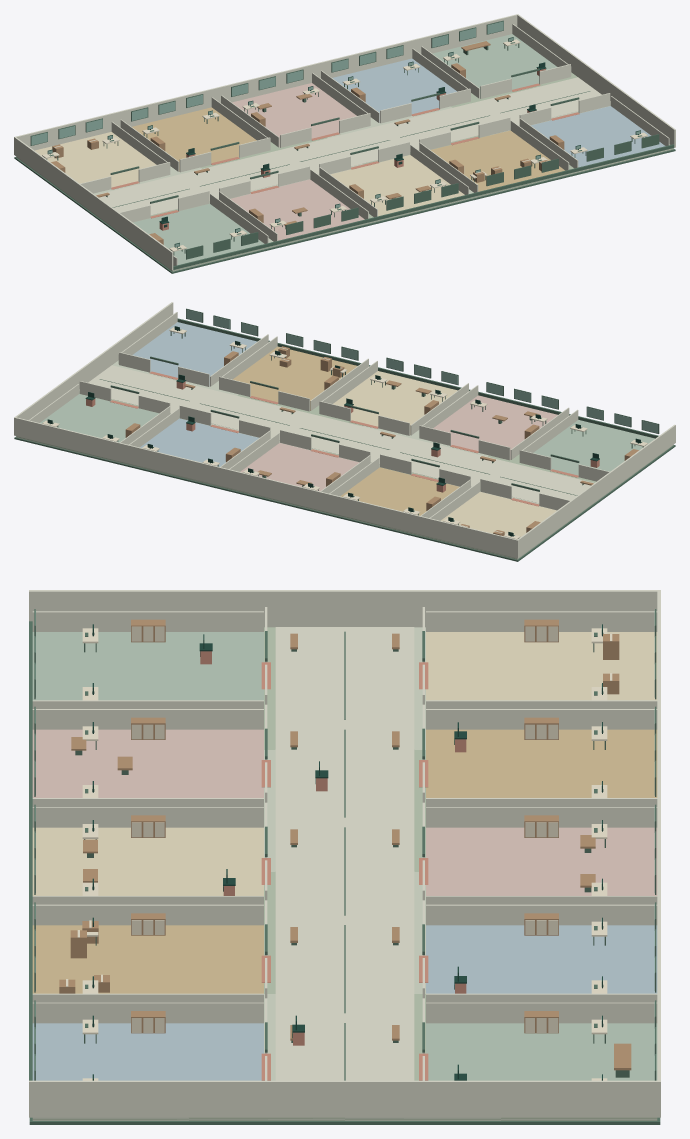
The model's file is campus.glb.
The picture shows the model from 3 angles, top to bottom: view 1: azimuth 30°, elevation 25°; view 2: azimuth 150°, elevation 25°; view 3: azimuth 270°, elevation 25°; orthographic projection. The views are drawn at different scales.
Visible parts, largest first — view 1: Boulevard tile (×5), Room divider (×18), Boundary back, Room front (×14), Boundary side (×2), AZOTEA / JARDÍN floor, ARCHIVO / EVIDENCIAS floor, SISTEMAS / TI floor, CREATIVIDAD floor, REUNIÓN ETERNA floor, RECEPCIÓN / SALIDA floor, CAFETERÍA floor (+6 smaller); view 2: Boulevard tile (×5), Boundary back, Room divider (×18), Room front (×14), Boundary side (×2), AZOTEA / JARDÍN floor, CREATIVIDAD floor, CAFETERÍA floor, RECEPCIÓN / SALIDA floor, LOGÍSTICA floor, Campus floor, ARCHIVO / EVIDENCIAS floor (+6 smaller); view 3: Boulevard tile (×5), Room divider (×18), Boundary side (×2), SISTEMAS / TI floor, RECEPCIÓN / SALIDA floor, ARCHIVO / EVIDENCIAS floor, REUNIÓN ETERNA floor, CREATIVIDAD floor, ARCHIVO MUERTO floor, CAFETERÍA floor, LOGÍSTICA floor, AZOTEA / JARDÍN floor (+5 smaller).
Part boxes in pixels (left/top/right/bottom): Boulevard tile (×5): left=95, top=77, right=610, bottom=215; Room divider (×18): left=111, top=24, right=669, bottom=243; Boundary back: left=16, top=14, right=517, bottom=150; Room front (×14): left=138, top=64, right=610, bottom=211; Boundary side (×2): left=14, top=14, right=675, bottom=270; AZOTEA / JARDÍN floor: left=531, top=106, right=665, bottom=167; ARCHIVO / EVIDENCIAS floor: left=132, top=107, right=256, bottom=171; SISTEMAS / TI floor: left=332, top=58, right=456, bottom=122; CREATIVIDAD floor: left=230, top=179, right=364, bottom=240; REUNIÓN ETERNA floor: left=232, top=83, right=356, bottom=146; RECEPCIÓN / SALIDA floor: left=133, top=204, right=264, bottom=264; CAFETERÍA floor: left=330, top=155, right=464, bottom=216; Boulevard tile (×5): left=79, top=365, right=594, bottom=503; Boundary back: left=15, top=417, right=516, bottom=557; Room divider (×18): left=29, top=312, right=578, bottom=520; Room front (×14): left=79, top=352, right=551, bottom=499; Boundary side (×2): left=14, top=302, right=675, bottom=558; AZOTEA / JARDÍN floor: left=132, top=322, right=257, bottom=385; CREATIVIDAD floor: left=433, top=395, right=557, bottom=459; CAFETERÍA floor: left=333, top=371, right=457, bottom=434; RECEPCIÓN / SALIDA floor: left=533, top=420, right=654, bottom=475; LOGÍSTICA floor: left=233, top=346, right=357, bottom=410; Campus floor: left=16, top=360, right=673, bottom=559; ARCHIVO / EVIDENCIAS floor: left=340, top=467, right=459, bottom=515; Boulevard tile (×5): left=275, top=627, right=414, bottom=1080; Room divider (×18): left=32, top=611, right=657, bottom=1023; Boundary side (×2): left=29, top=590, right=660, bottom=1117; SISTEMAS / TI floor: left=426, top=925, right=657, bottom=993; RECEPCIÓN / SALIDA floor: left=32, top=632, right=263, bottom=700; ARCHIVO / EVIDENCIAS floor: left=426, top=729, right=657, bottom=797; REUNIÓN ETERNA floor: left=426, top=827, right=657, bottom=895; CREATIVIDAD floor: left=32, top=729, right=263, bottom=797; ARCHIVO MUERTO floor: left=426, top=632, right=657, bottom=700; CAFETERÍA floor: left=32, top=827, right=263, bottom=895; LOGÍSTICA floor: left=32, top=925, right=263, bottom=993; AZOTEA / JARDÍN floor: left=32, top=1023, right=263, bottom=1080.
Size of the model in its own units: 101 by 4.1 by 54.6.
Materials: 14 (1 with a texture image).
